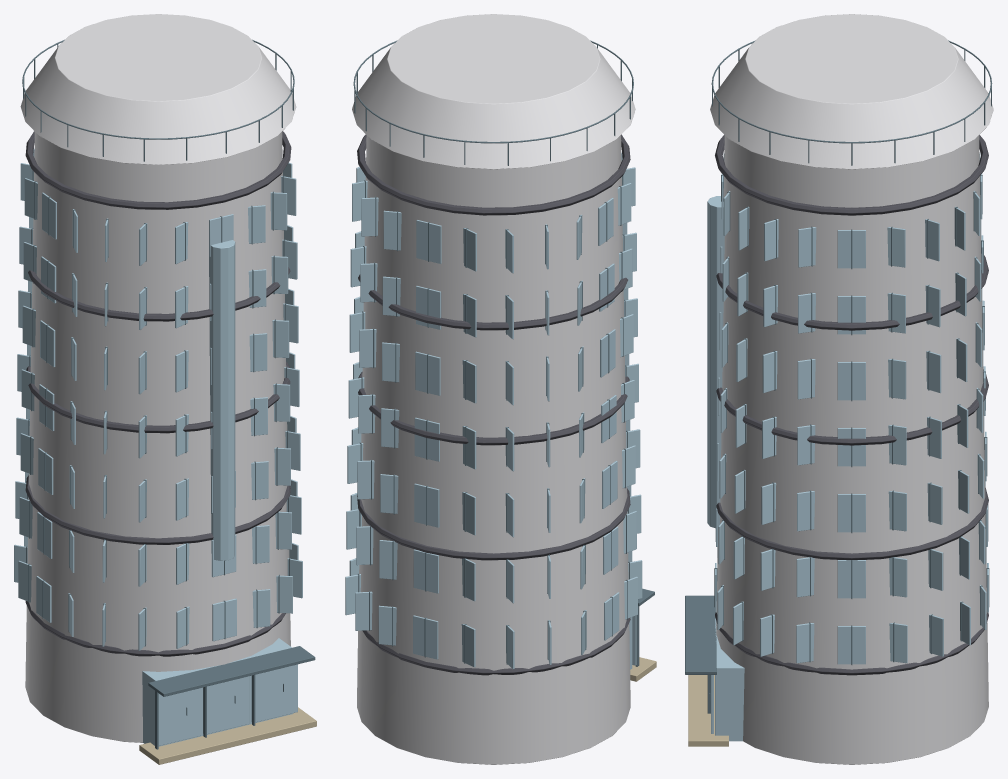
The model's file is fashion_tower.glb.
3 renders of one model, left to right at view 1: azimuth 30°, elevation 25°; view 2: azimuth 150°, elevation 25°; view 3: azimuth 270°, elevation 25°, orthographic. The views are drawn at different scales.
Parts seen in each view (by area): view 1: Detail.fashion_tower.Shell, Detail.fashion_tower.Detail.Glass, Detail.fashion_tower.Glass, Detail.fashion_tower.Band, Detail.fashion_tower.Detail.Metal, Detail.fashion_tower.Detail.Stone; view 2: Detail.fashion_tower.Shell, Detail.fashion_tower.Detail.Glass, Detail.fashion_tower.Band, Detail.fashion_tower.Detail.Metal; view 3: Detail.fashion_tower.Shell, Detail.fashion_tower.Detail.Glass, Detail.fashion_tower.Band, Detail.fashion_tower.Detail.Metal, Detail.fashion_tower.Glass, Detail.fashion_tower.Detail.Stone.
Boxes of the visible parts, x1,y1,x2,y2 form: Detail.fashion_tower.Shell: (20,14,296,742); Detail.fashion_tower.Detail.Glass: (14,148,302,745); Detail.fashion_tower.Glass: (142,240,293,746); Detail.fashion_tower.Band: (25,131,291,656); Detail.fashion_tower.Detail.Metal: (22,39,315,749); Detail.fashion_tower.Detail.Stone: (139,707,316,764); Detail.fashion_tower.Shell: (352,14,635,764); Detail.fashion_tower.Detail.Glass: (345,152,642,669); Detail.fashion_tower.Band: (357,134,630,675); Detail.fashion_tower.Detail.Metal: (353,40,654,666); Detail.fashion_tower.Shell: (710,14,993,764); Detail.fashion_tower.Detail.Glass: (711,153,988,733); Detail.fashion_tower.Band: (715,134,988,675); Detail.fashion_tower.Detail.Metal: (685,40,992,713); Detail.fashion_tower.Glass: (707,196,744,741); Detail.fashion_tower.Detail.Stone: (688,675,728,746).
Bounding box in the file's own units: 11.19 × 28.2 × 12.17.
